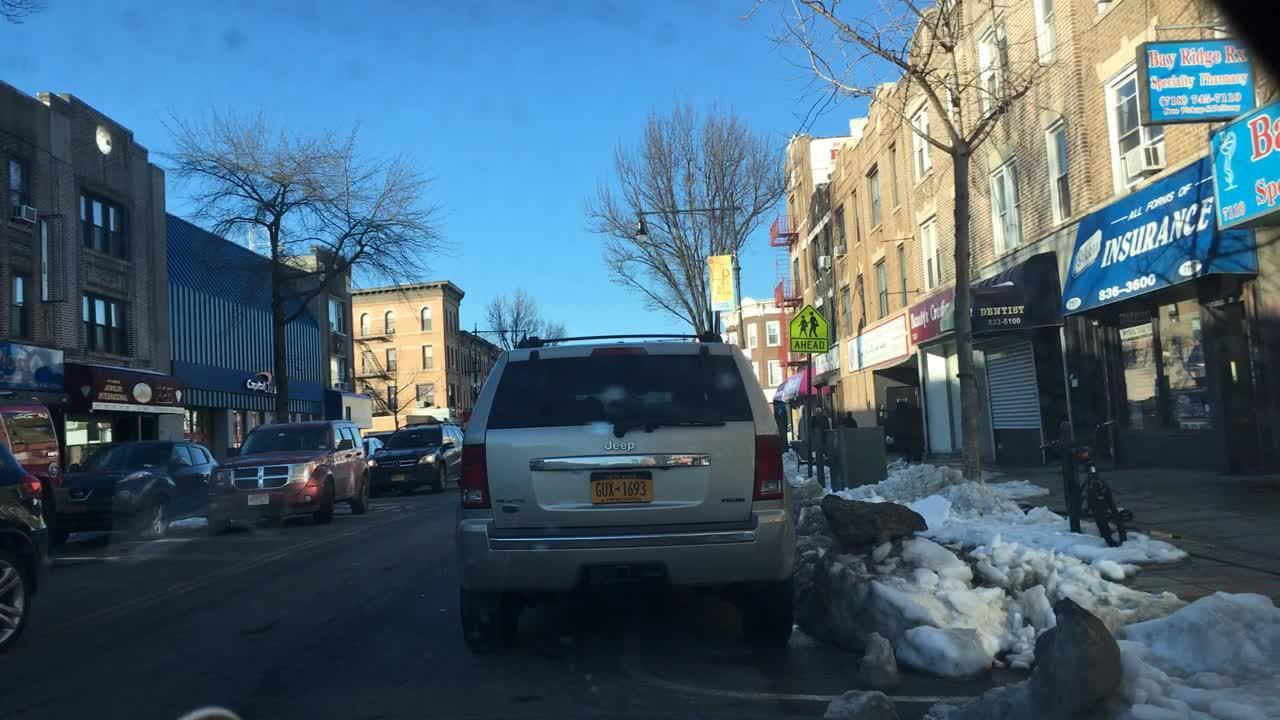jeep: (598, 434, 644, 458)
